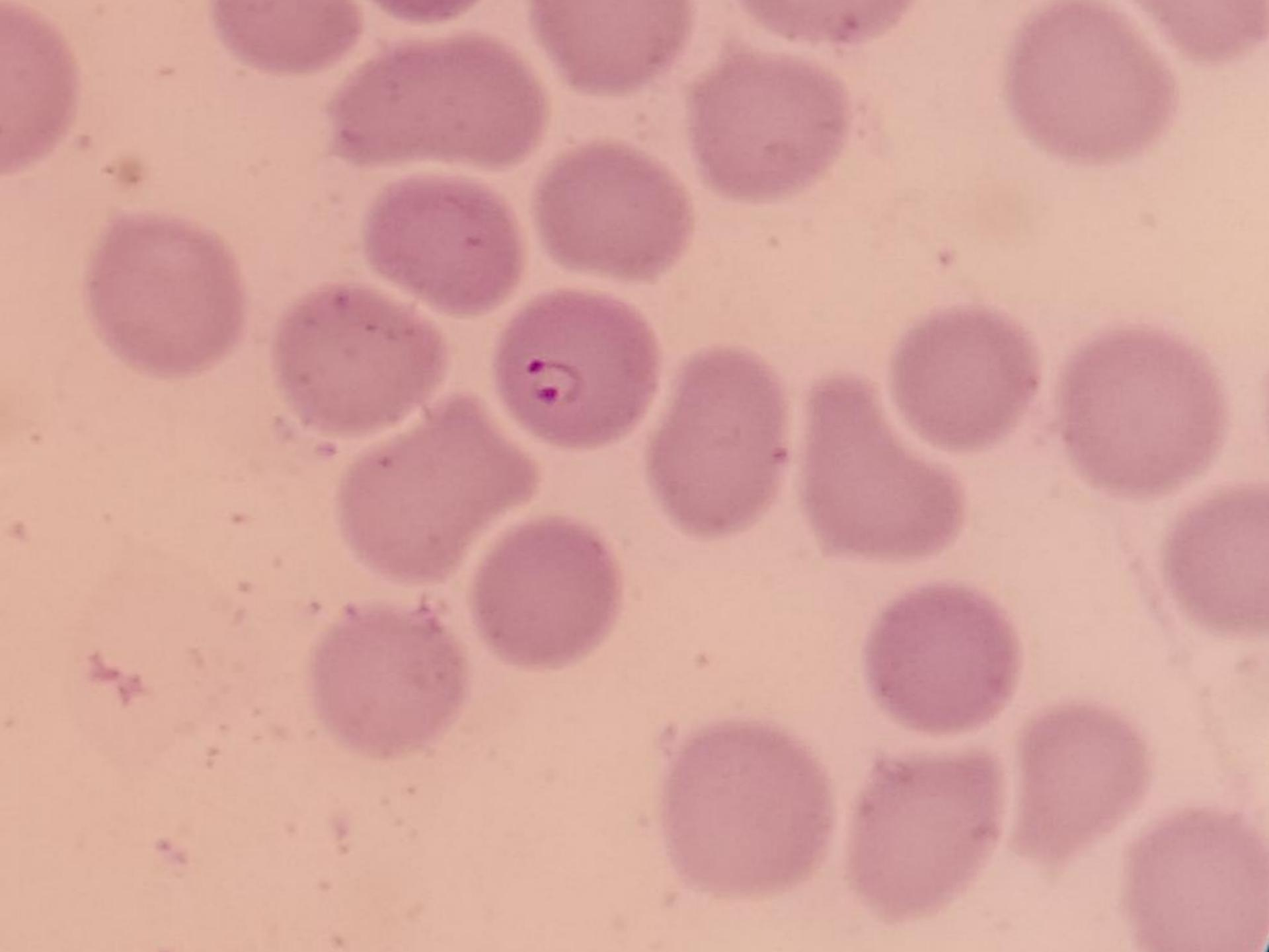Infected: (494, 291, 658, 448)
Uninfected: (337, 390, 541, 583), (801, 372, 968, 558), (322, 33, 547, 168), (1062, 322, 1226, 497), (1010, 4, 1180, 164), (848, 753, 1010, 919), (666, 722, 825, 891), (271, 283, 444, 438), (686, 40, 848, 203), (651, 349, 787, 534), (84, 218, 243, 373), (311, 602, 469, 751), (864, 582, 1017, 734), (365, 177, 527, 316), (474, 516, 623, 666), (540, 139, 695, 282), (1010, 706, 1147, 863), (1122, 808, 1269, 952), (892, 311, 1042, 451)
